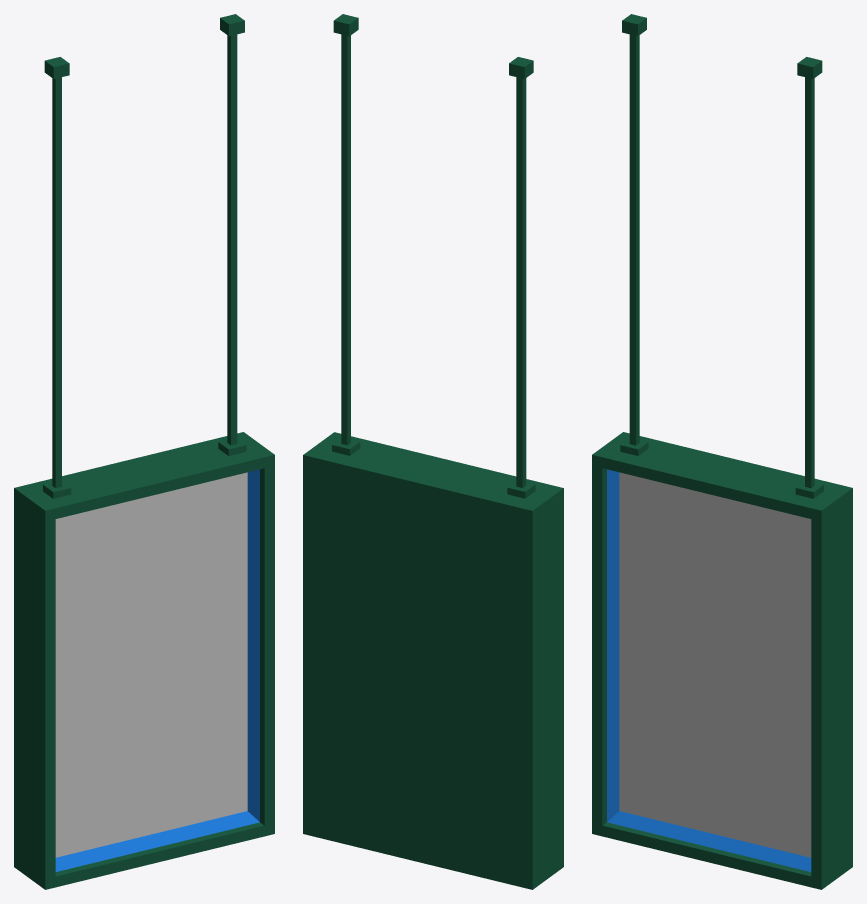
File: T_window_banner.fbx
3 renders of one model, left to right at view 1: azimuth 30°, elevation 25°; view 2: azimuth 150°, elevation 25°; view 3: azimuth 330°, elevation 25°, orthographic.
Visible parts, largest first — view 1: window_banner; view 2: window_banner; view 3: window_banner.
Boxes of the visible parts, bbox=[...] form: window_banner: bbox=[14, 14, 274, 889]; window_banner: bbox=[303, 14, 563, 889]; window_banner: bbox=[592, 14, 852, 889].
Size of the model in its own units: 57.33 by 193 by 13.52.
